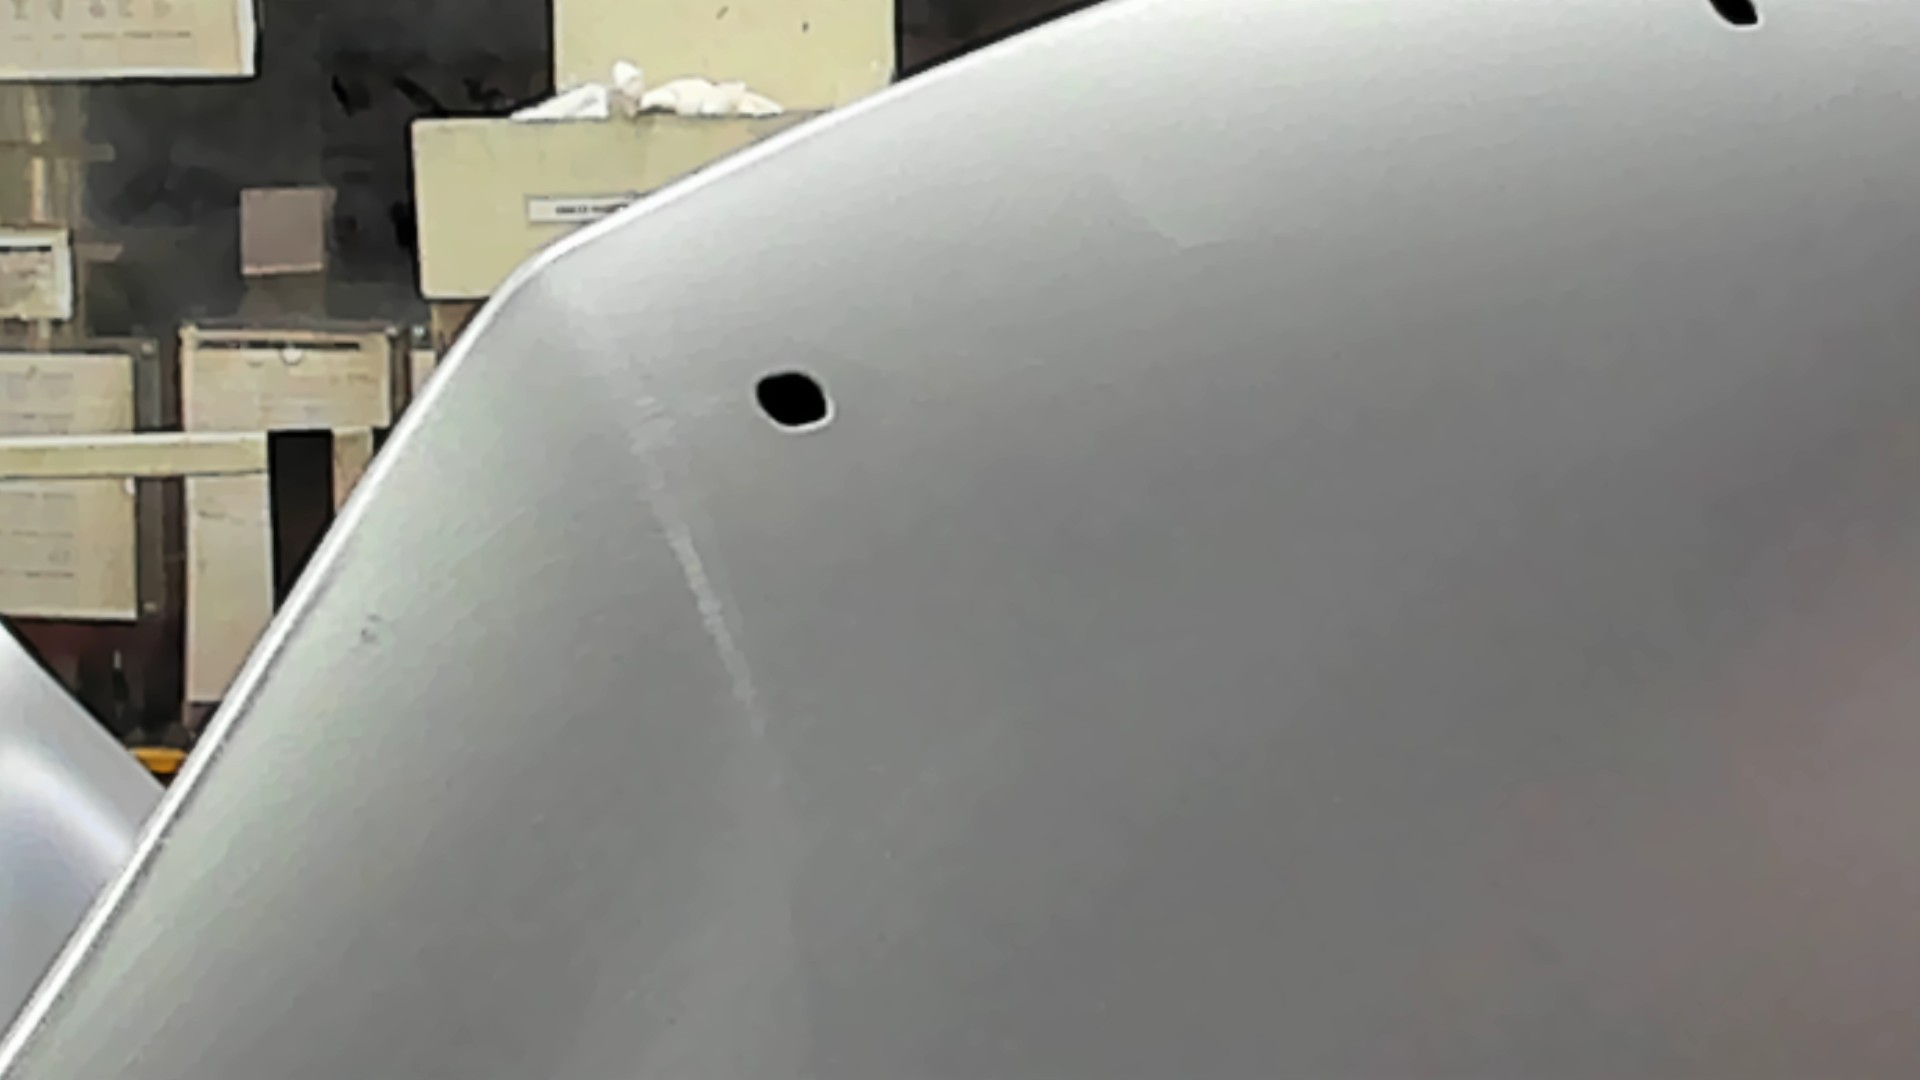amorfo: (748, 367, 833, 433), (1709, 1, 1770, 32)
